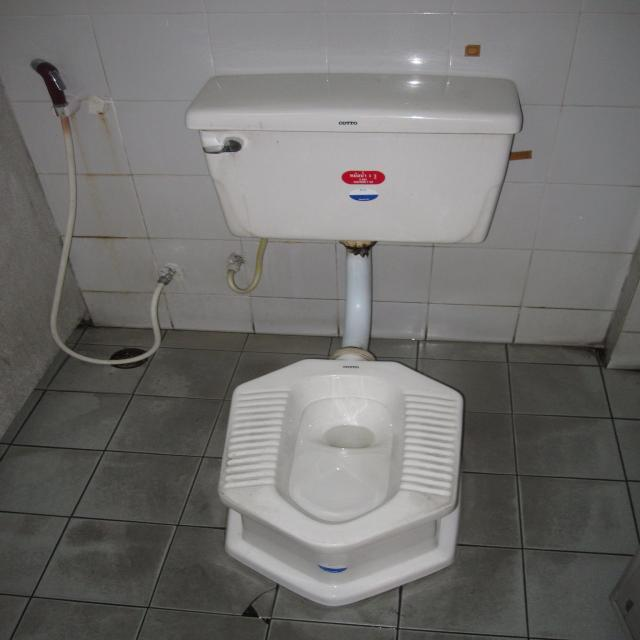dirty_floor: (1, 0, 638, 348), (1, 325, 638, 637)
